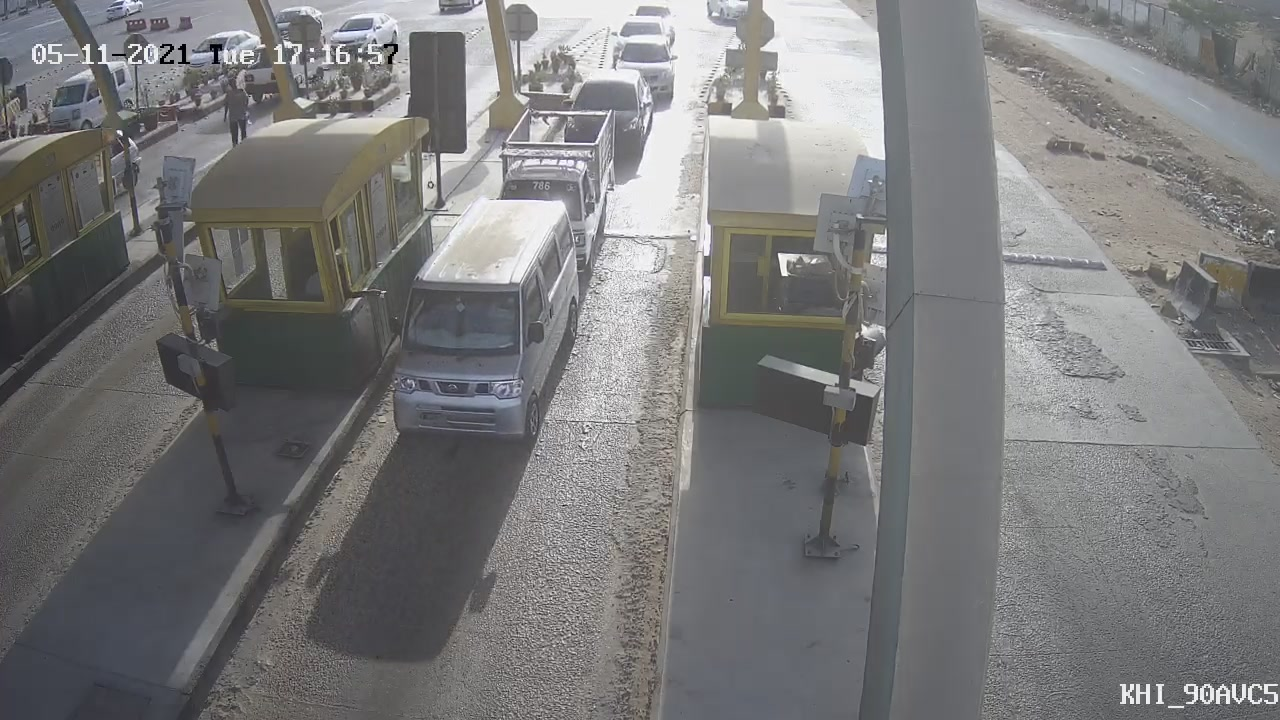F1: (373, 181, 599, 468)
